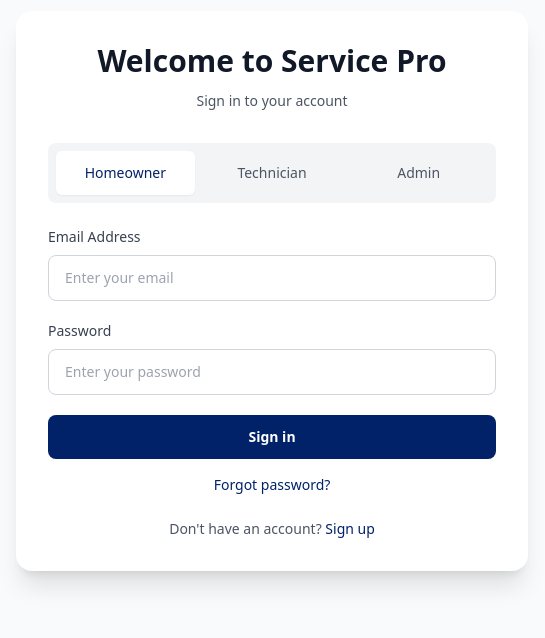
Login.jsx › shows error if login API returns no token
Type "test@example.com" into the field labelled "Email Address" at (272, 278), box [48,255,496,301]
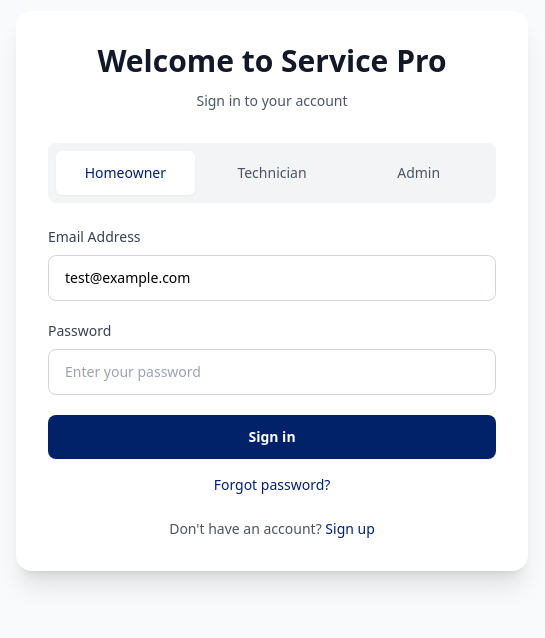
Type "password" into the password field labelled "Password" at (272, 372), box [48,349,496,395]
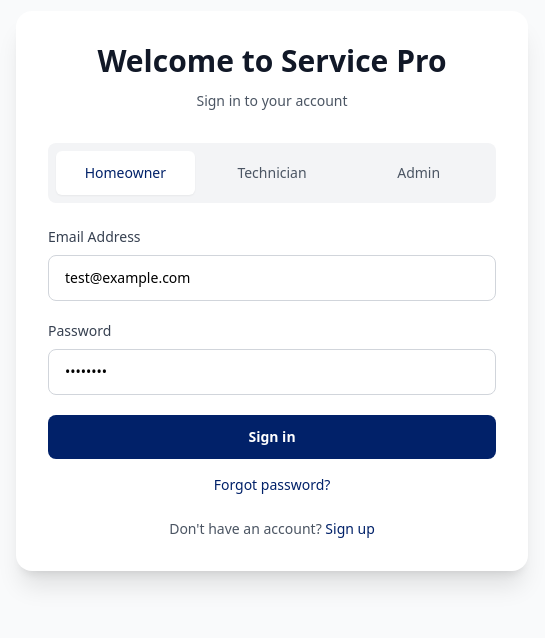
Click the button "Sign in" at (272, 437), box [48,415,496,459]
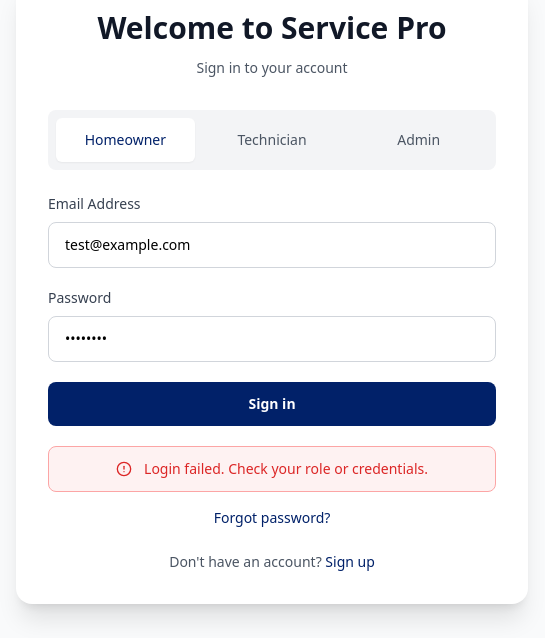
Check: the text "Login failed. Check your role or credentials." is shown, box [144,459,428,479]
